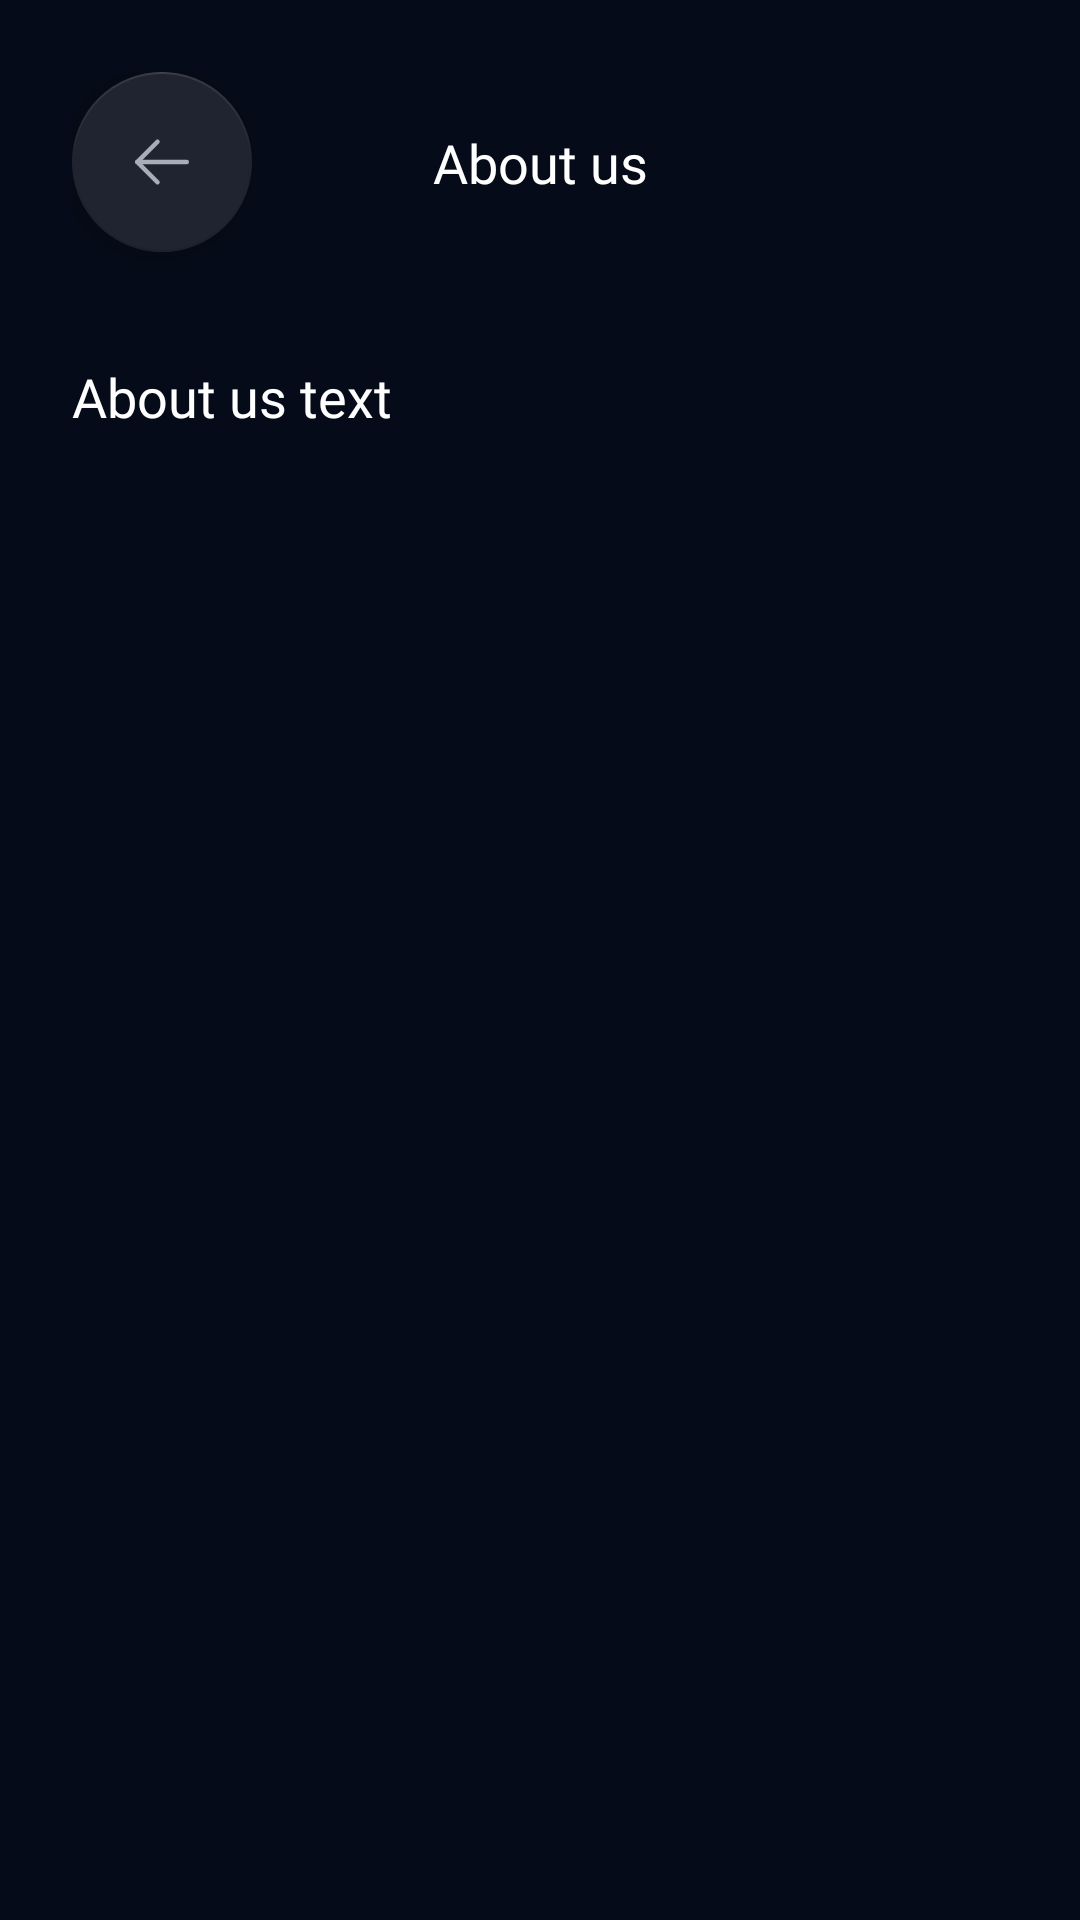

Where icons sit on this 1080×1920 app screen, as (x1, y1, x2, y2):
arrow back: (72, 72, 252, 250)
